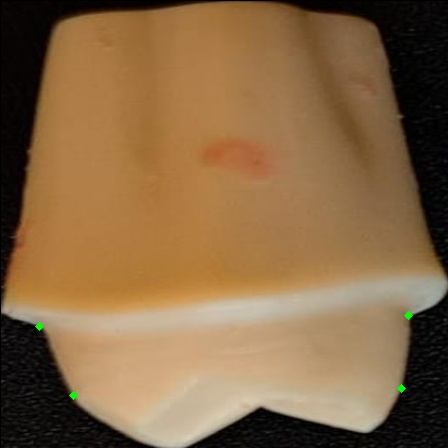coin_1: (408, 315, 428, 335)
coin_2: (401, 388, 421, 408)
coin_3: (39, 326, 59, 346)
coin_4: (73, 395, 93, 415)
